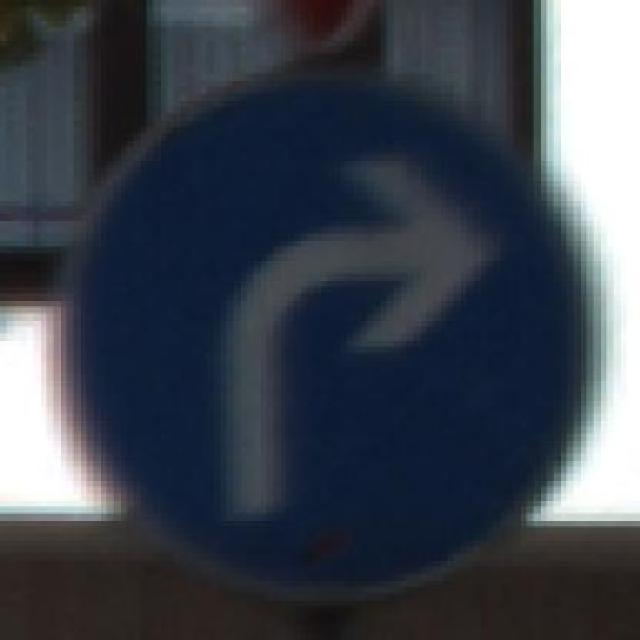Turn right ahead: (53, 60, 607, 594)
